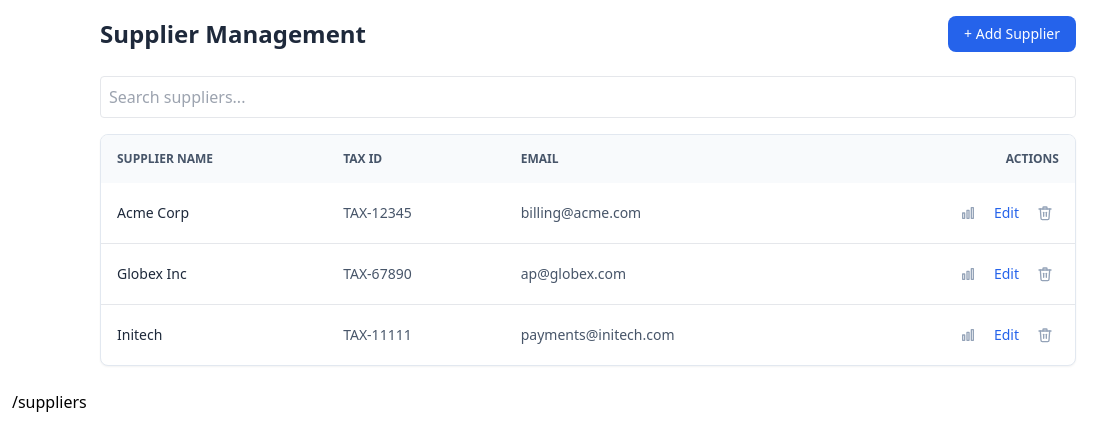
Scenario: Suppliers › 3.6 — Supplier statistics dashboard action › navigates to the selected supplier dashboard
The image size is (1093, 430).
Expected: the text "Acme Corp" is shown, [101,183,327,244]
Click the button with test id "stats-btn-sup-001" at coordinates (968, 213), box [954,199,982,227]
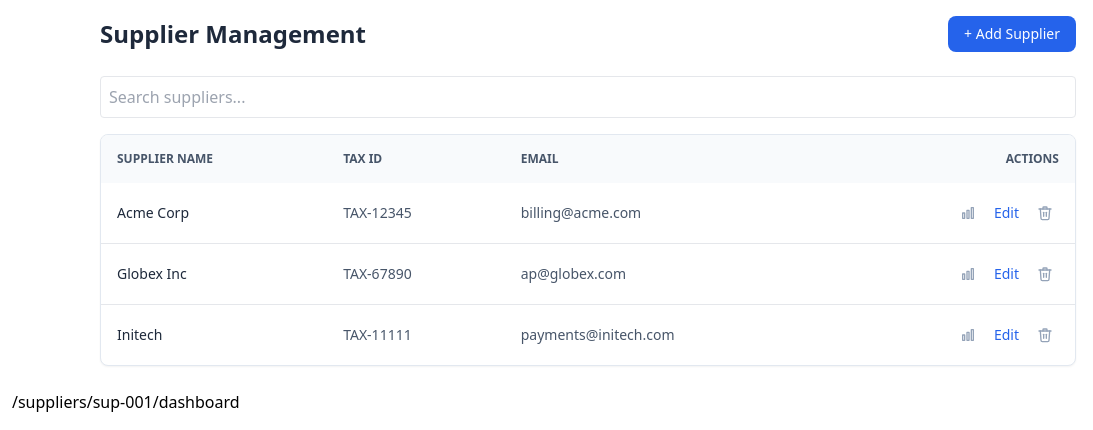
Expected: the text with test id "current-location" reads "/suppliers/sup-001/dashboard", [12,391,240,413]
